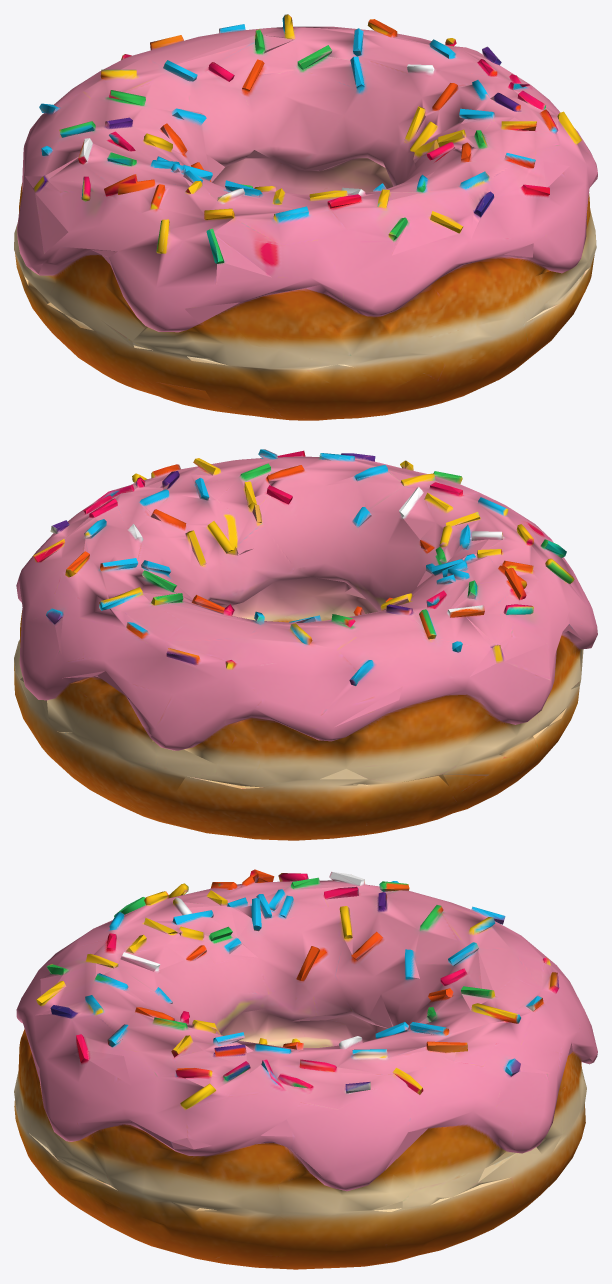
File: addy_lunch_donut.obj
3 views of the same model, one above another, from view 1: azimuth 30°, elevation 25°; view 2: azimuth 150°, elevation 25°; view 3: azimuth 270°, elevation 25° (orthographic). The views are drawn at different scales.
Parts seen in each view (by area): view 1: model; view 2: model; view 3: model.
Part boxes in pixels (x1=…): model: x1=14, y1=14, x2=597, y2=420; model: x1=14, y1=449, x2=597, y2=840; model: x1=14, y1=869, x2=597, y2=1269.
Bounding box in the file's own units: 1.9 × 0.7751 × 1.87.
